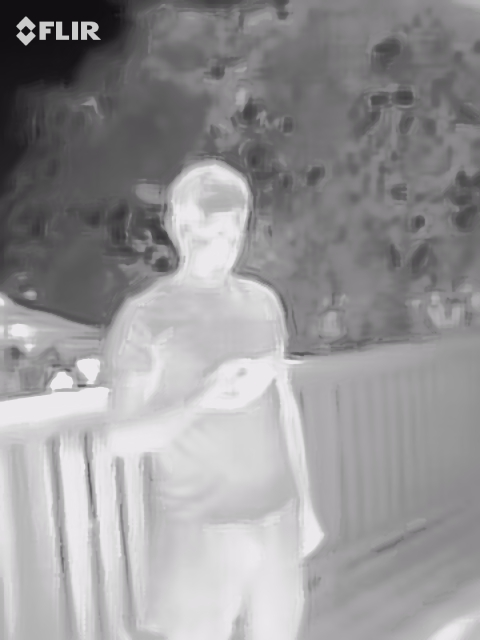head: (161, 158, 251, 275)
